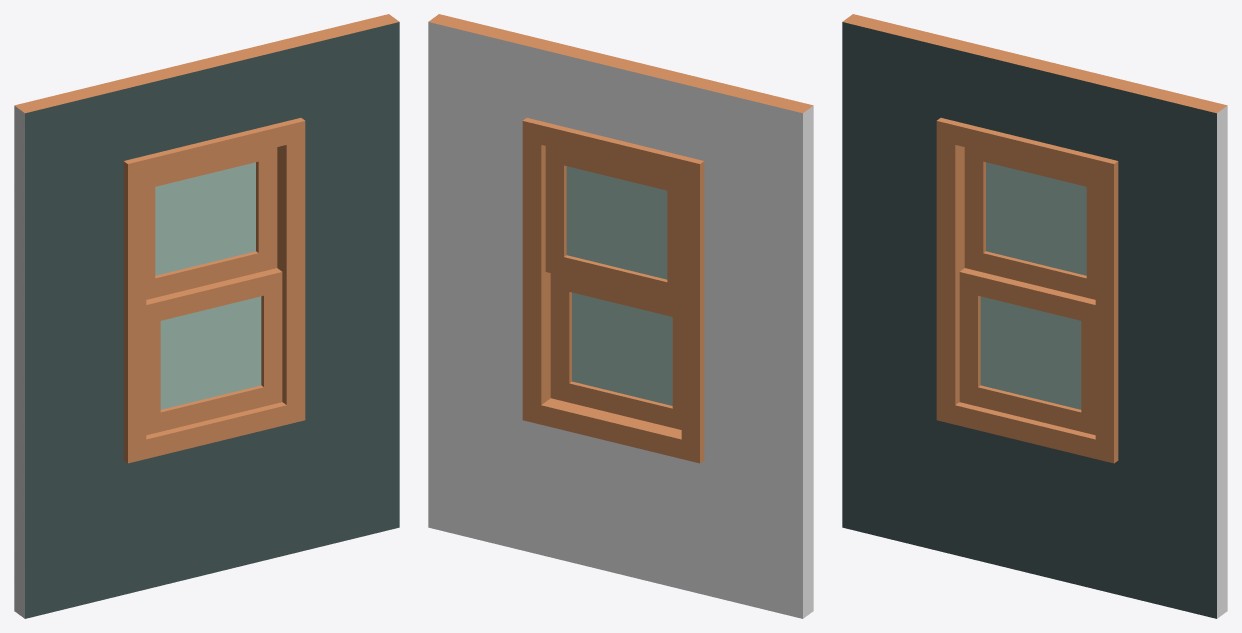
Rendered from wallWindowSlide.obj.
3 views of the same model, side by side, from view 1: azimuth 30°, elevation 25°; view 2: azimuth 150°, elevation 25°; view 3: azimuth 330°, elevation 25° (orthographic).
Parts seen in each view (by area): view 1: wallWindowSlide, windowBottom, windowTop; view 2: wallWindowSlide, windowTop, windowBottom; view 3: wallWindowSlide, windowBottom, windowTop.
Boxes of the visible parts, x1,y1,x2,y2 form: wallWindowSlide: [14, 14, 399, 618]; windowBottom: [146, 268, 282, 435]; windowTop: [146, 147, 277, 299]; wallWindowSlide: [428, 14, 813, 618]; windowTop: [545, 146, 681, 304]; windowBottom: [550, 273, 681, 429]; wallWindowSlide: [842, 14, 1227, 618]; windowBottom: [959, 268, 1095, 435]; windowTop: [964, 147, 1095, 299].
Bounding box in the file's own units: 1 × 1.29 × 0.0891.
